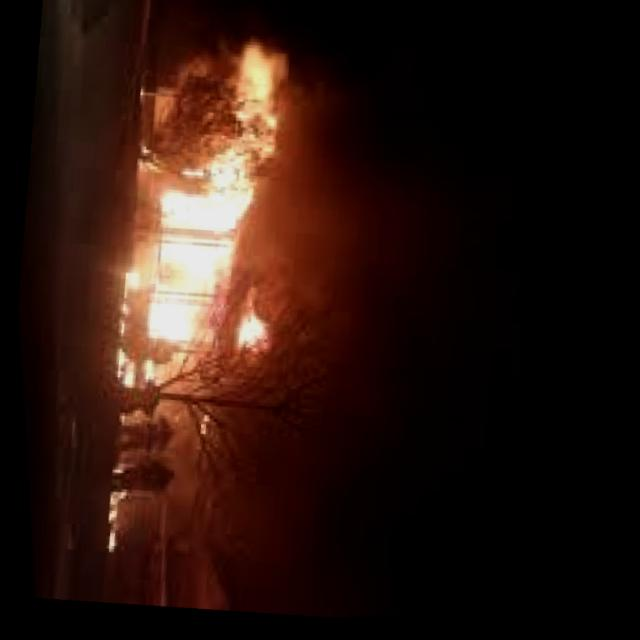Fire: (89, 62, 275, 451)
Smoke: (197, 47, 491, 495)
